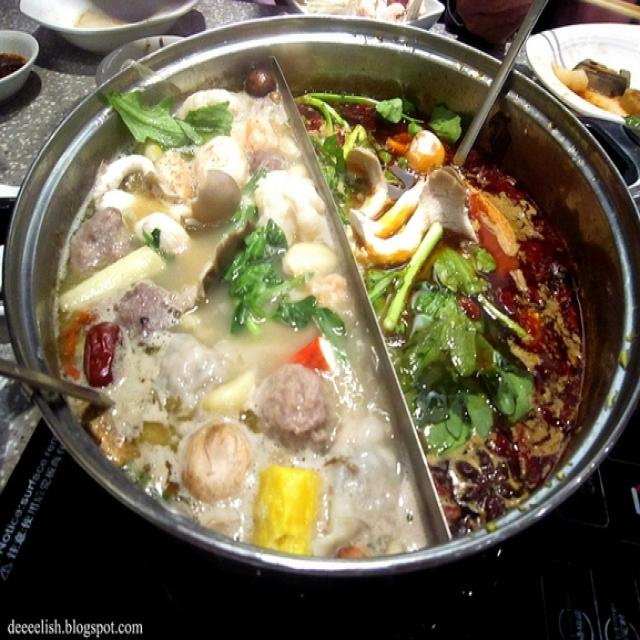汤锅炖物: (16, 28, 624, 591)
